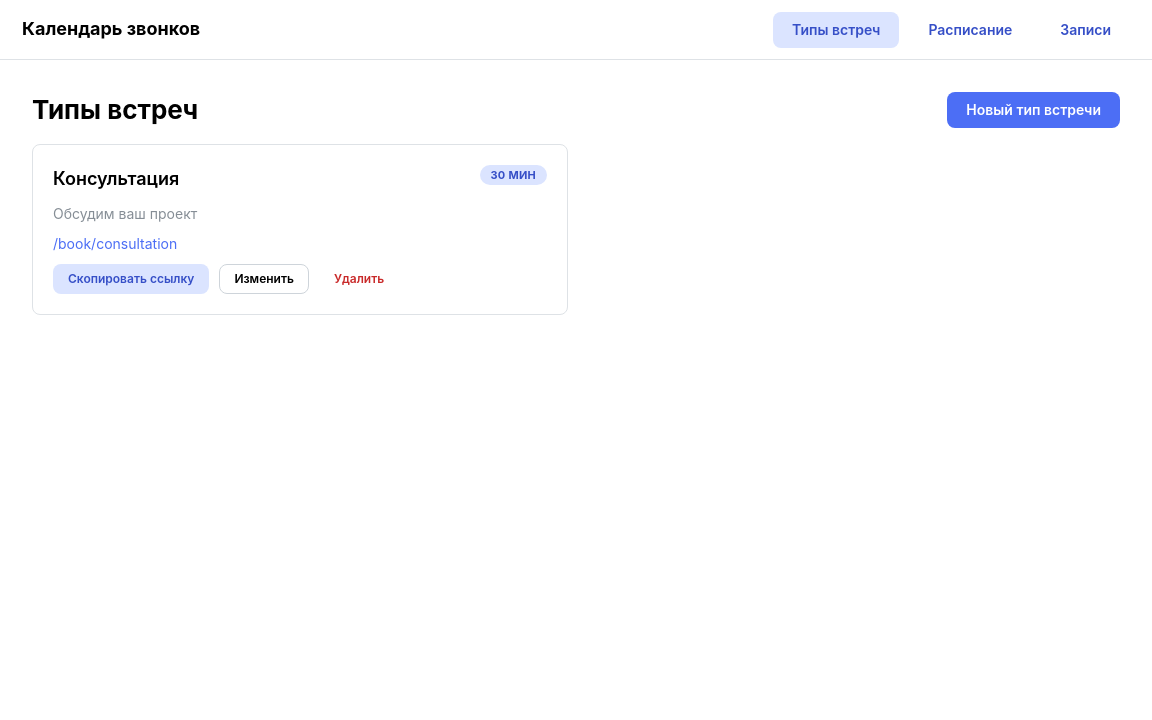
Test: EventTypesPage › explains why an event type with bookings cannot be deleted
The image size is (1152, 720).
Click the button "Удалить" at (359, 279), box [319, 264, 399, 294]
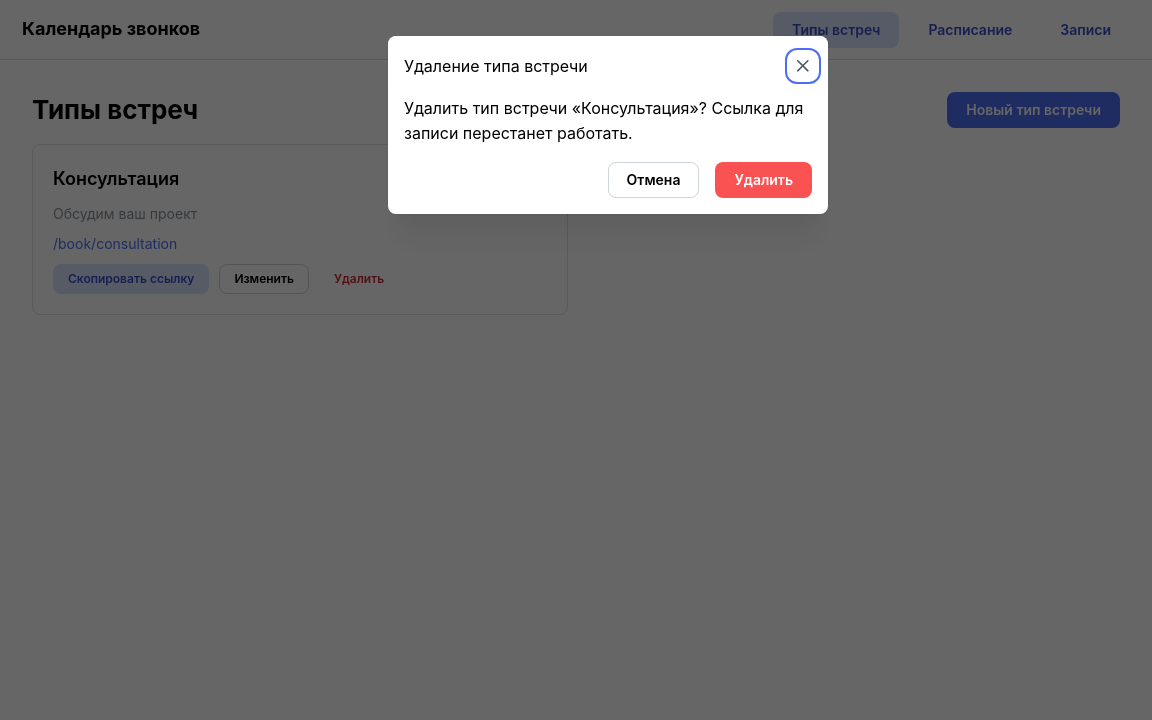
Click the button "Удалить" at (764, 180), box [715, 162, 812, 198]
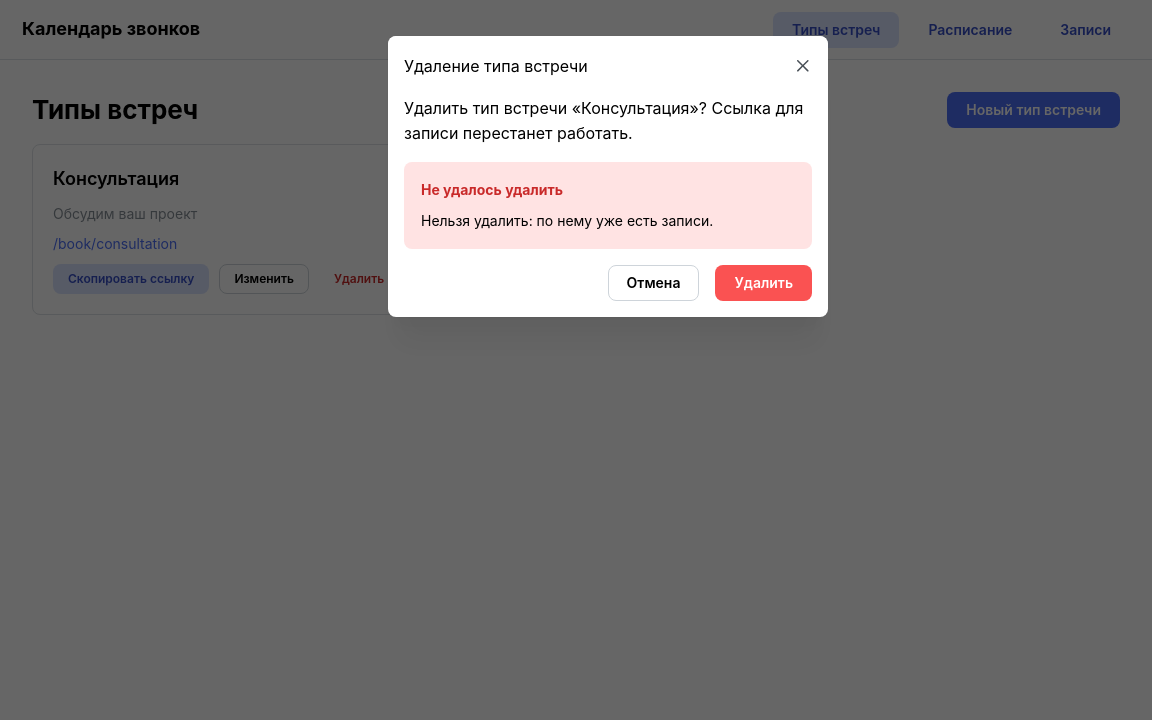
Check: the text "Консультация" is shown, box [53, 165, 179, 194]
Check: the text "Нельзя удалить: по нему уже есть записи." is shown, box [421, 212, 713, 229]
